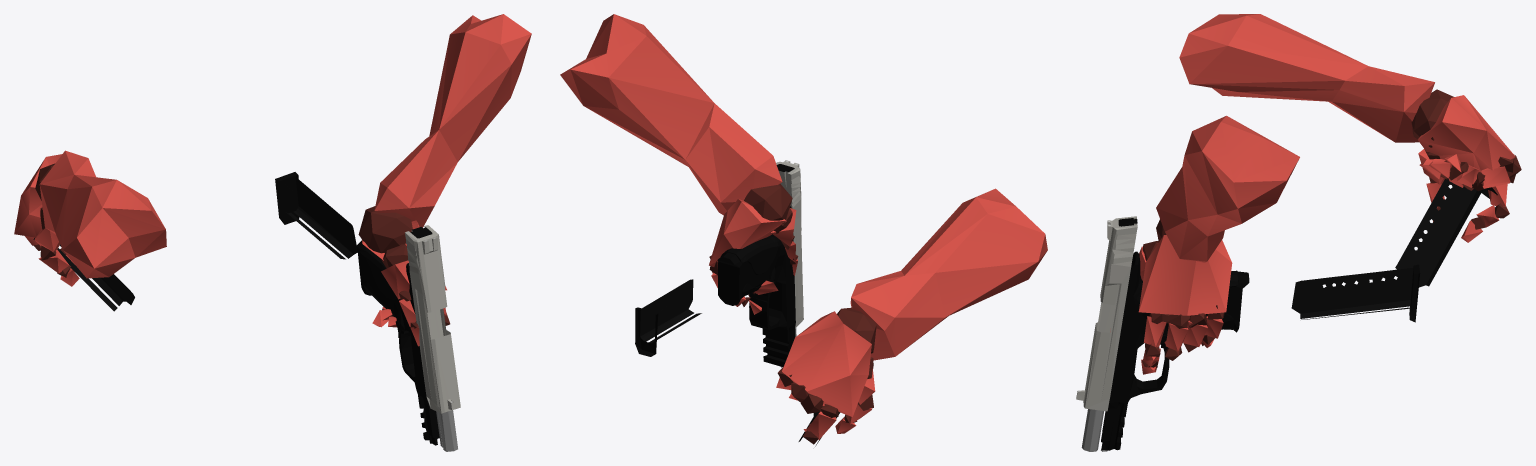
File: M&P9reloadNormal1lowP_000128.obj
The picture shows the model from 3 angles, left to right: view 1: azimuth 30°, elevation 25°; view 2: azimuth 150°, elevation 25°; view 3: azimuth 270°, elevation 25°; orthographic projection. The views are drawn at different scales.
Visible parts, largest first — view 1: Beta_Surface.001_Beta_Surface.002, slide_平面.002, triger_平面.001, magazine_平面.003, Beta_Joints.001_Beta_Joints.002, magazine.002_平面.005; view 2: Beta_Surface.001_Beta_Surface.002, triger_平面.001, Beta_Joints.001_Beta_Joints.002, magazine_平面.003, slide_平面.002; view 3: Beta_Surface.001_Beta_Surface.002, triger_平面.001, slide_平面.002, magazine_平面.003, magazine.002_平面.005, Beta_Joints.001_Beta_Joints.002.
Part boxes in pixels (x1,y1,x2,y2): Beta_Surface.001_Beta_Surface.002: (14, 14, 531, 346); slide_平面.002: (405, 225, 460, 413); triger_平面.001: (356, 240, 457, 451); magazine_平面.003: (275, 172, 357, 259); Beta_Joints.001_Beta_Joints.002: (34, 163, 450, 329); magazine.002_平面.005: (33, 238, 134, 311); Beta_Surface.001_Beta_Surface.002: (560, 14, 1047, 439); triger_平面.001: (717, 206, 796, 367); Beta_Joints.001_Beta_Joints.002: (709, 183, 876, 444); magazine_平面.003: (635, 279, 701, 356); slide_平面.002: (776, 160, 803, 328); Beta_Surface.001_Beta_Surface.002: (1110, 14, 1515, 374); triger_平面.001: (1081, 251, 1249, 451); slide_平面.002: (1076, 216, 1137, 411); magazine_平面.003: (1291, 264, 1420, 322); magazine.002_平面.005: (1395, 179, 1497, 287); Beta_Joints.001_Beta_Joints.002: (1142, 89, 1521, 367).
Size of the model in its own units: 91.02 by 69.27 by 71.88.
